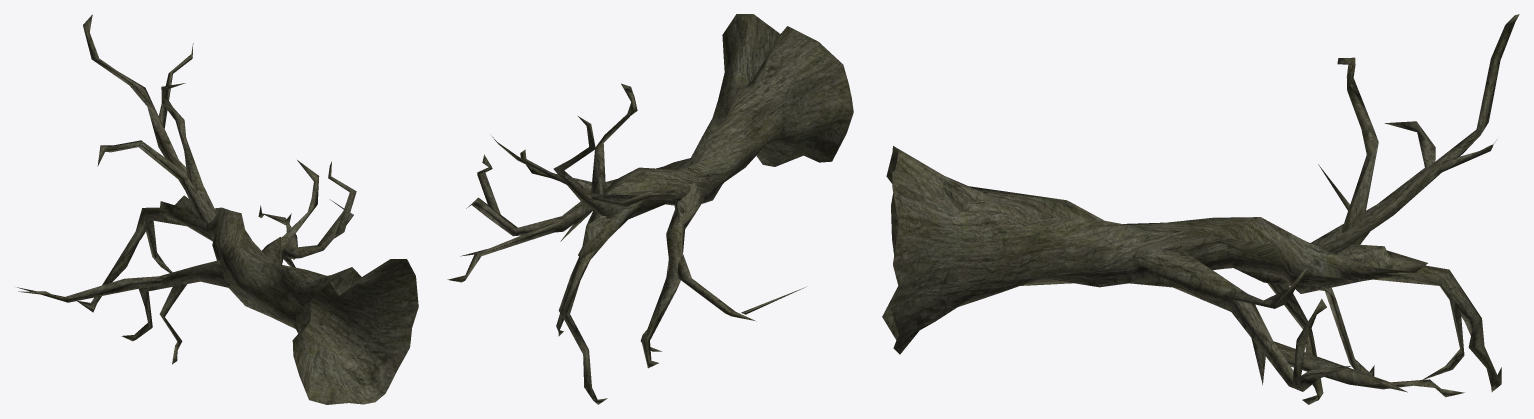
The model's file is TI_Old_Tree_06_LOD_02.fbx.
The picture shows the model from 3 angles, left to right: view 1: azimuth 30°, elevation 25°; view 2: azimuth 150°, elevation 25°; view 3: azimuth 270°, elevation 25°; orthographic projection. The views are drawn at different scales.
Parts seen in each view (by area): view 1: TI_Old_Tree_06_LOD_02; view 2: TI_Old_Tree_06_LOD_02; view 3: TI_Old_Tree_06_LOD_02.
Boxes of the visible parts, x1=… form: TI_Old_Tree_06_LOD_02: x1=17, y1=14, x2=418, y2=404; TI_Old_Tree_06_LOD_02: x1=447, y1=14, x2=853, y2=404; TI_Old_Tree_06_LOD_02: x1=882, y1=14, x2=1519, y2=404.
Bounding box in the file's own units: 8.63 × 7.22 × 10.76.
